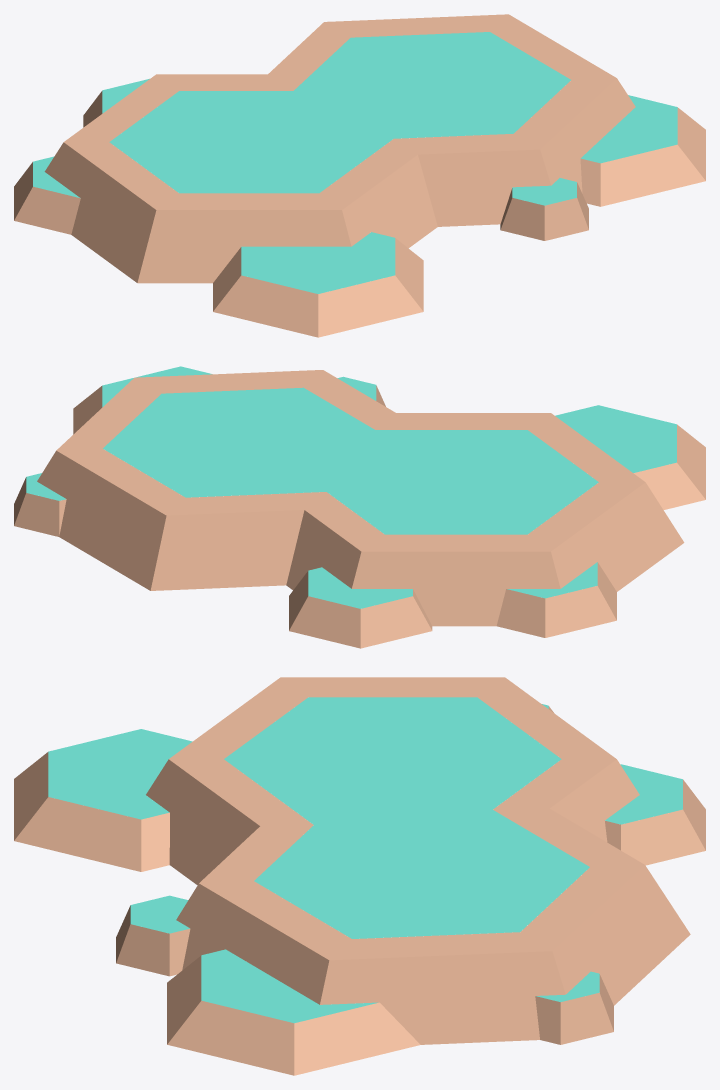
Rendered from platform_grass.glb.
3 views of the same model, one above another, from view 1: azimuth 30°, elevation 25°; view 2: azimuth 150°, elevation 25°; view 3: azimuth 270°, elevation 25° (orthographic). The views are drawn at different scales.
Parts seen in each view (by area): view 1: platform_grass; view 2: platform_grass; view 3: platform_grass.
Boxes of the visible parts, x1,y1,x2,y2 form: platform_grass: [14, 14, 705, 337]; platform_grass: [14, 366, 705, 648]; platform_grass: [14, 677, 705, 1075].
Size of the model in its own units: 0.8932 by 0.0826 by 0.724.
